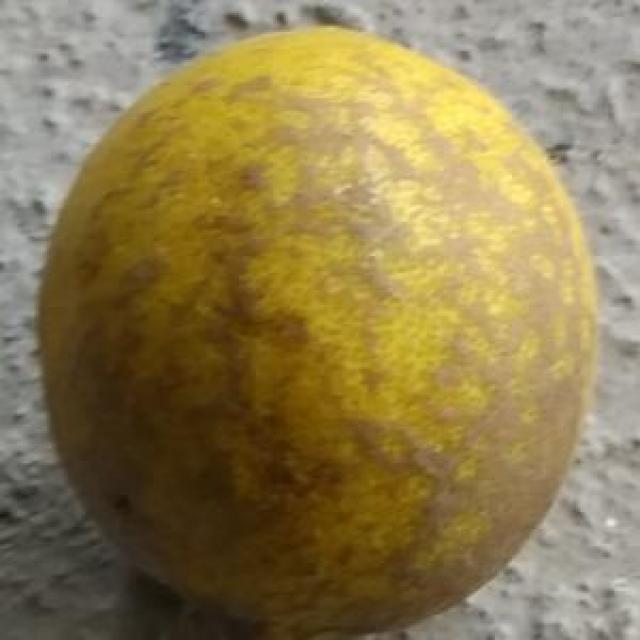lemon: (32, 23, 602, 636)
